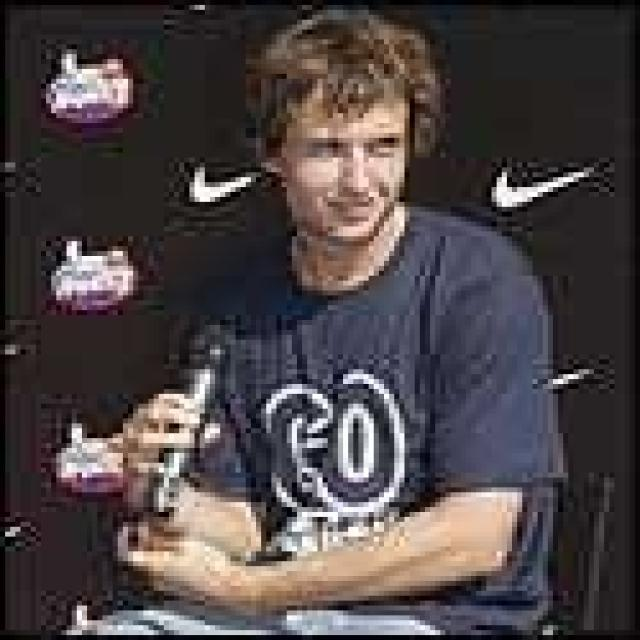microphone: (148, 323, 236, 519)
